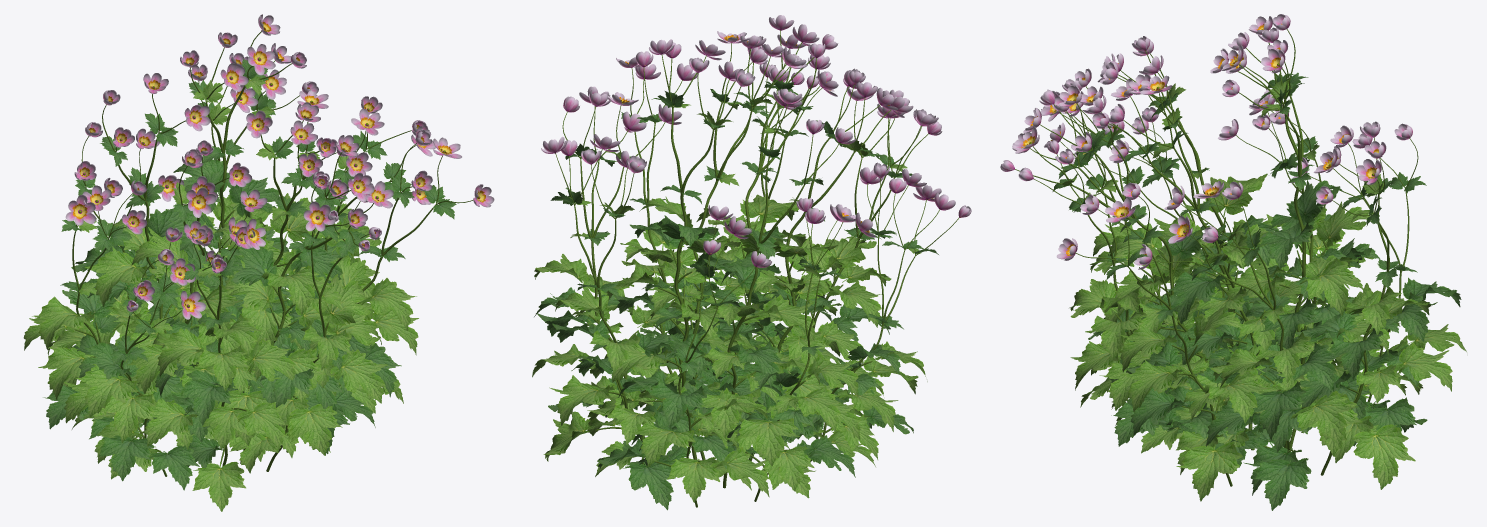
The model's file is anemone_hybrida.obj.
3 views of the same model, side by side, from view 1: azimuth 30°, elevation 25°; view 2: azimuth 150°, elevation 25°; view 3: azimuth 270°, elevation 25° (orthographic). The views are drawn at different scales.
Visible parts, largest first — view 1: Anemone_hybrida_v01_m001_Mesh; view 2: Anemone_hybrida_v01_m001_Mesh; view 3: Anemone_hybrida_v01_m001_Mesh.
Part boxes in pixels (<box>): Anemone_hybrida_v01_m001_Mesh: <box>23,14,494,511</box>; Anemone_hybrida_v01_m001_Mesh: <box>532,15,971,510</box>; Anemone_hybrida_v01_m001_Mesh: <box>1000,14,1466,510</box>.
Bounding box in the file's own units: 0.6013 × 0.6758 × 0.6645.
7 materials, 7 textured.
